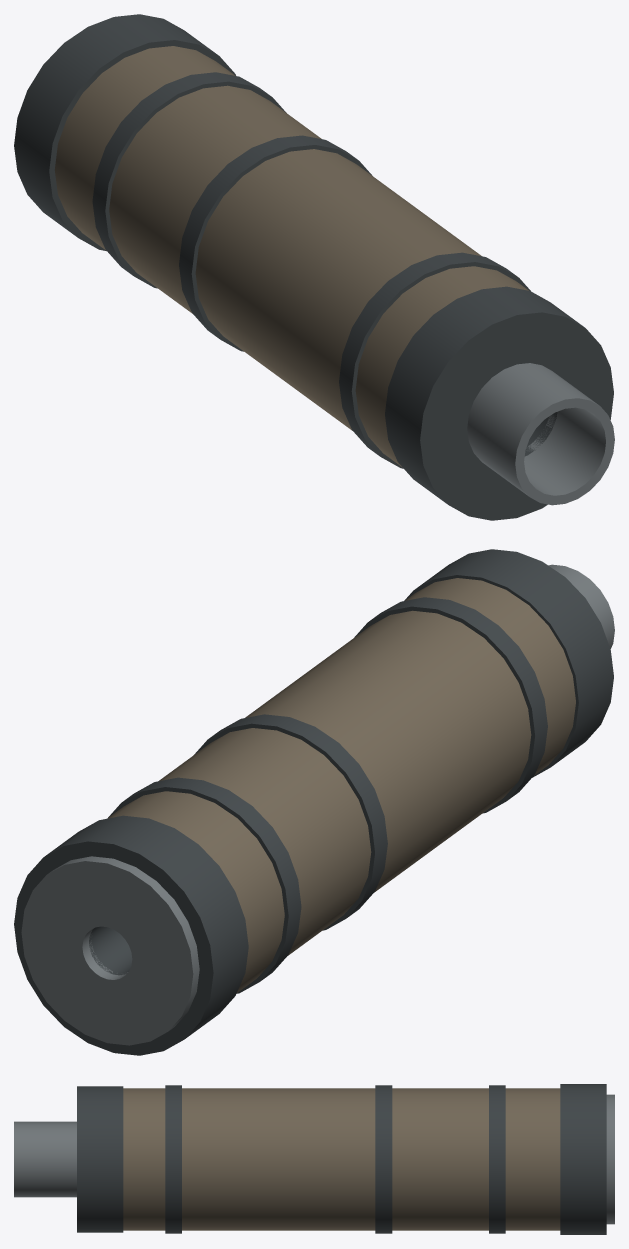
The model's file is suppressor.glb.
3 renders of one model, top to bottom at view 1: azimuth 30°, elevation 25°; view 2: azimuth 150°, elevation 25°; view 3: azimuth 270°, elevation 25°, orthographic. The views are drawn at different scales.
Parts seen in each view (by area): view 1: suppressor_Bronze_shell, suppressor_metal, suppressor_steel; view 2: suppressor_Bronze_shell, suppressor_metal, suppressor_steel; view 3: suppressor_Bronze_shell, suppressor_metal, suppressor_steel.
Part boxes in pixels (<box>): suppressor_Bronze_shell: <box>54,46,528,467</box>; suppressor_metal: <box>14,14,613,520</box>; suppressor_steel: <box>467,363,614,505</box>; suppressor_Bronze_shell: <box>107,578,575,992</box>; suppressor_metal: <box>14,549,613,1055</box>; suppressor_steel: <box>21,564,614,1045</box>; suppressor_Bronze_shell: <box>123,1088,560,1230</box>; suppressor_metal: <box>77,1084,606,1234</box>; suppressor_steel: <box>14,1094,614,1224</box>.
Size of the model in its own units: 0.036 by 0.036 by 0.143.
